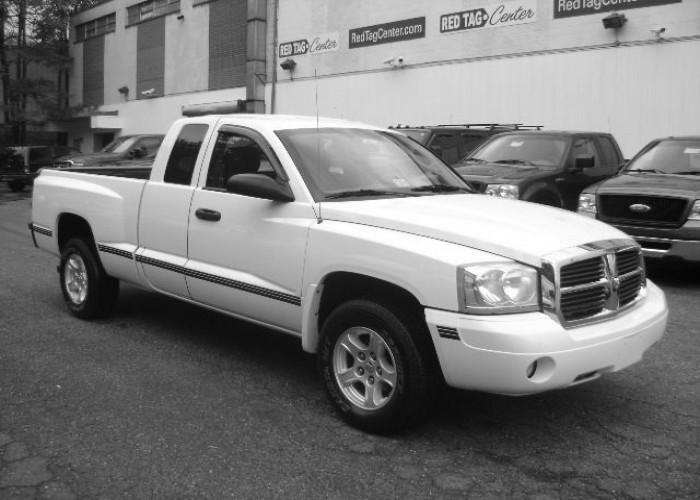car: (31, 110, 672, 440)
